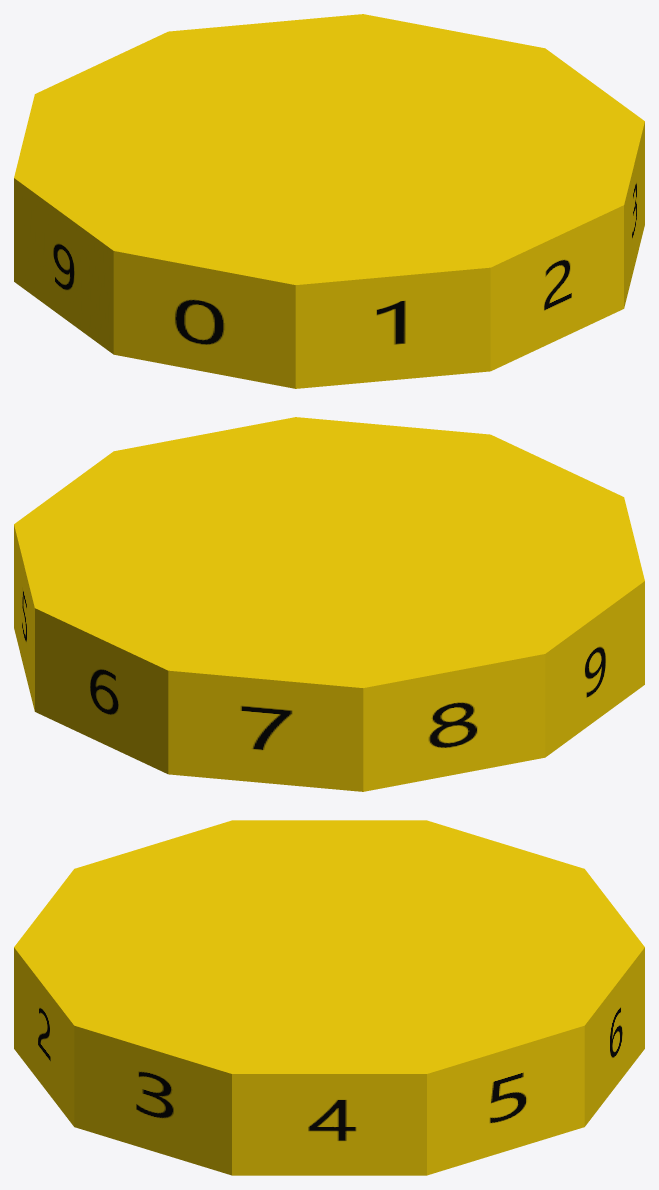
Rendered from 新轮盘+缩放.fbx.
3 views of the same model, one above another, from view 1: azimuth 30°, elevation 25°; view 2: azimuth 150°, elevation 25°; view 3: azimuth 270°, elevation 25° (orthographic). The views are drawn at different scales.
Visible parts, largest first — view 1: 柱体.001; view 2: 柱体.001; view 3: 柱体.001.
Boxes of the visible parts, bbox=[...] form: 柱体.001: bbox=[14, 14, 644, 388]; 柱体.001: bbox=[14, 417, 644, 791]; 柱体.001: bbox=[14, 820, 644, 1175].
Size of the model in its own units: 6.39 by 1.19 by 6.72.
